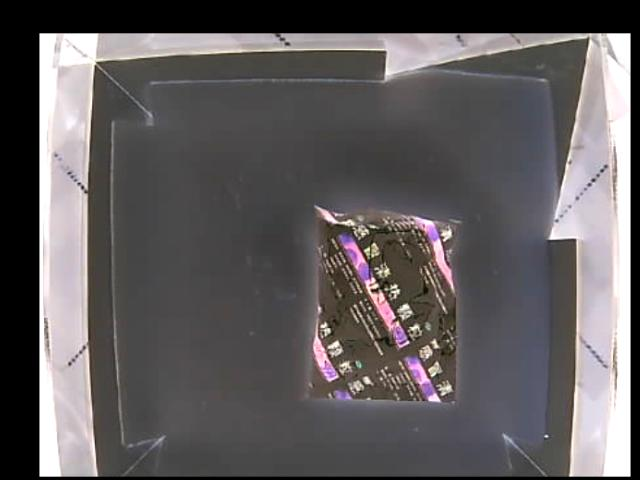Medicine: (312, 202, 458, 405)
